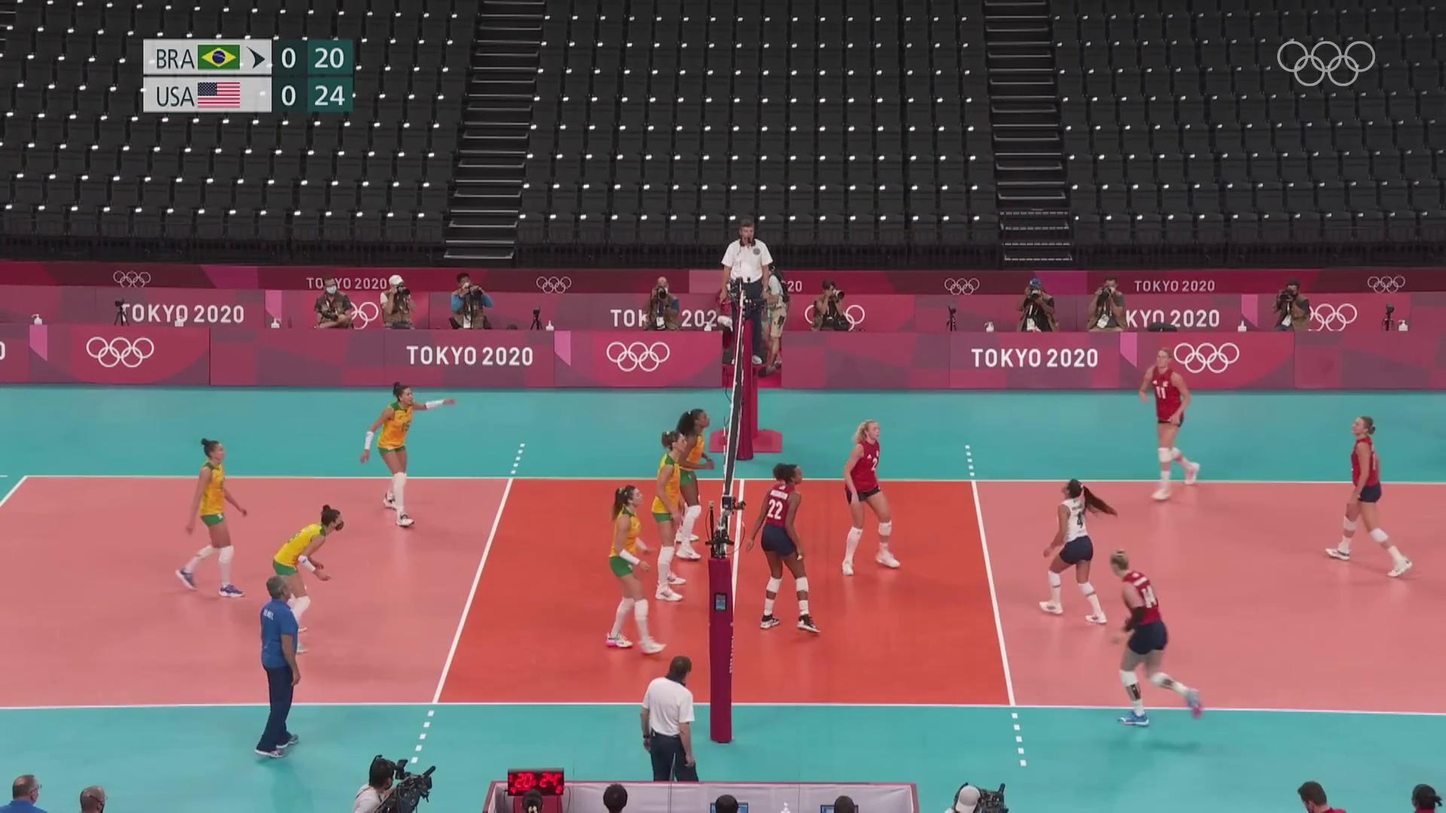player: (1103, 550, 1205, 731), (1322, 415, 1415, 579), (360, 384, 456, 535), (180, 439, 255, 595), (753, 464, 820, 636), (270, 508, 346, 658), (600, 484, 665, 653), (1039, 478, 1113, 623), (837, 419, 900, 574), (1142, 348, 1203, 504), (651, 431, 694, 602), (668, 406, 712, 559)
refree: (718, 219, 777, 356), (637, 655, 700, 780)
